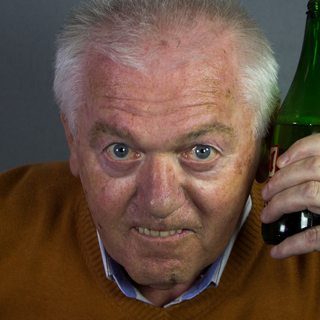eye: (176, 140, 225, 164), (97, 140, 143, 165)
